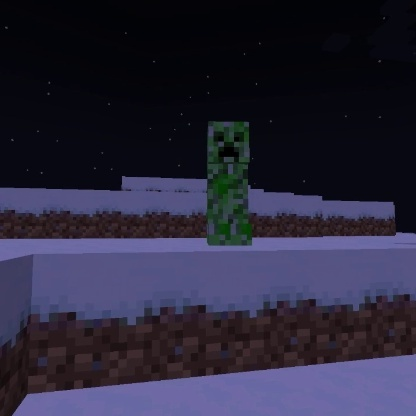creeper: (203, 117, 255, 249)
